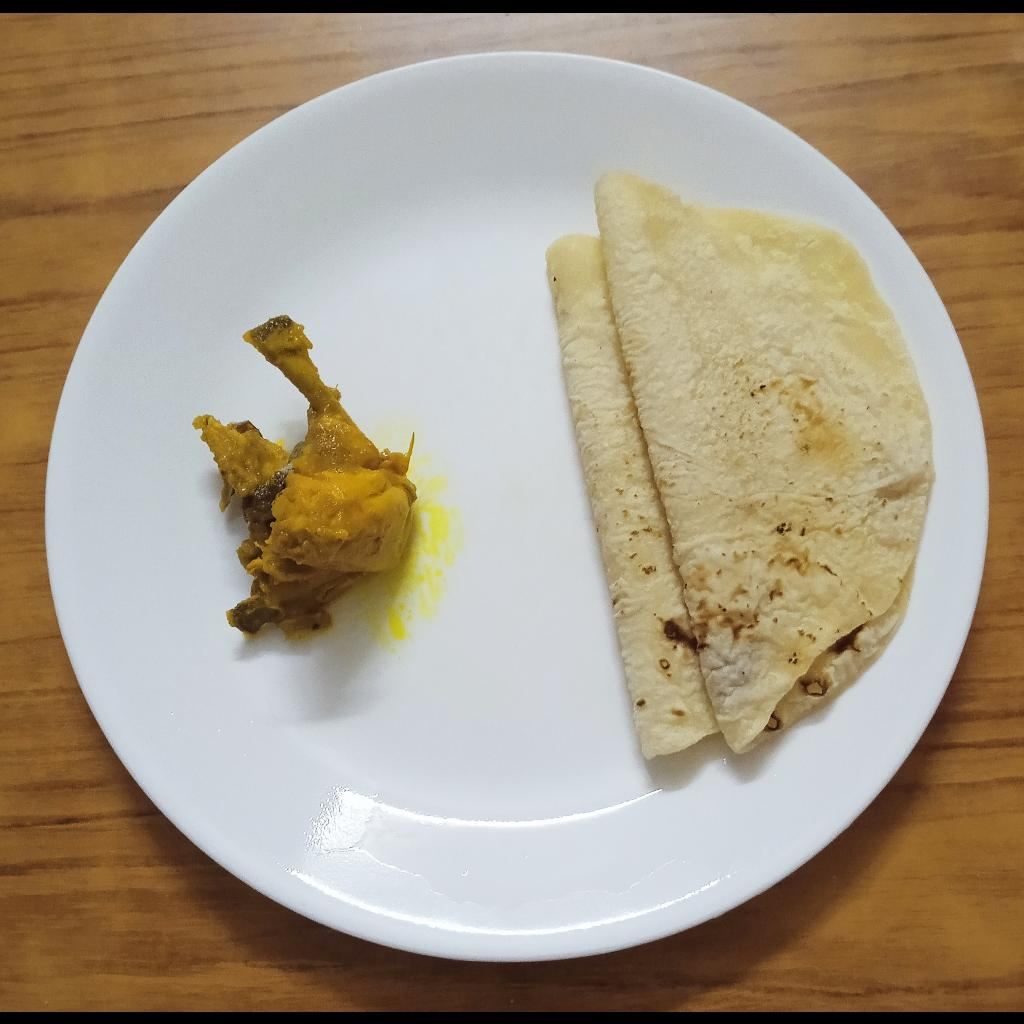chicken: (195, 308, 418, 639)
ruti: (545, 175, 935, 764)
